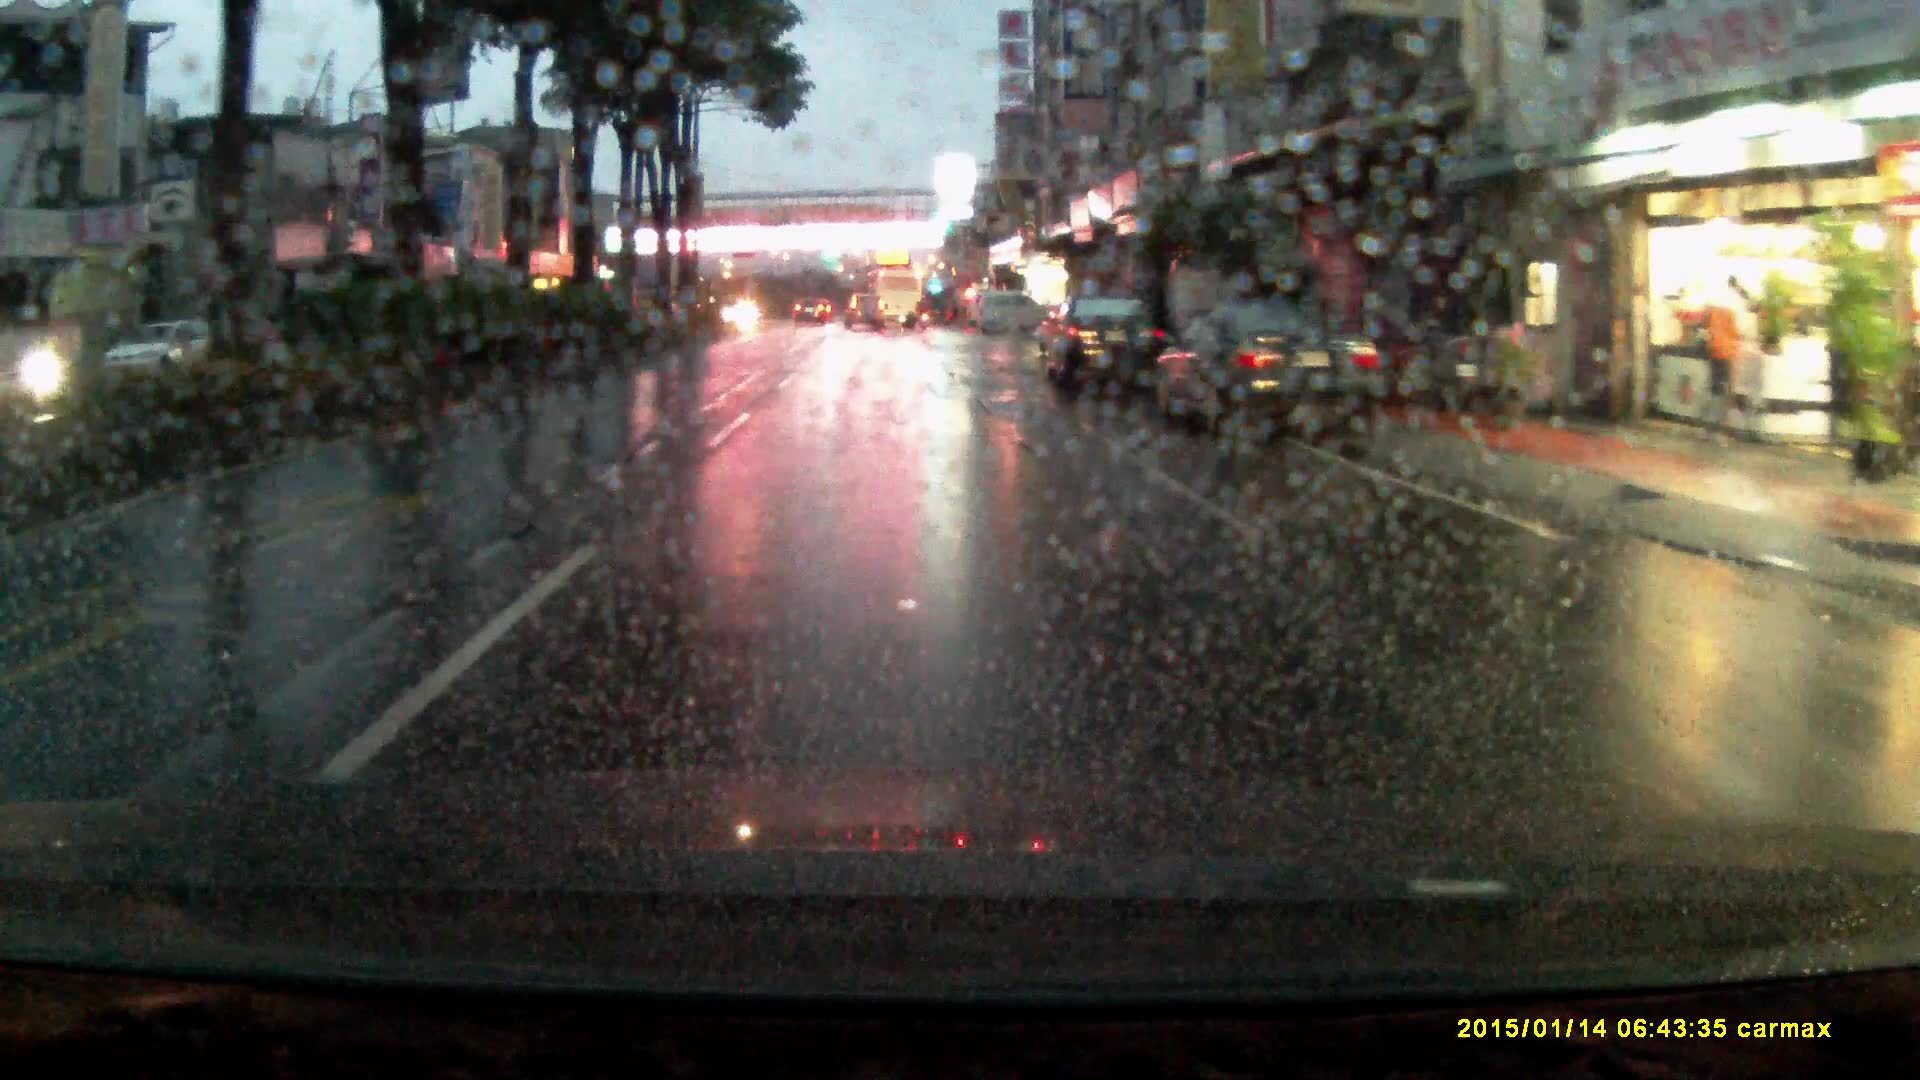vehicle: (1145, 303, 1395, 448), (1044, 295, 1178, 407), (102, 320, 233, 386), (971, 293, 1051, 342), (865, 272, 923, 332), (845, 294, 886, 335), (796, 301, 829, 328)
